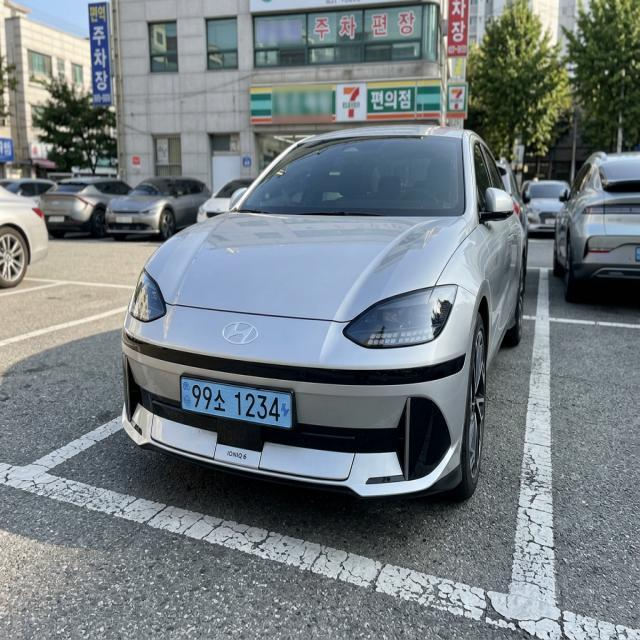car: (171, 363, 307, 444)
carev: (180, 374, 193, 415), (279, 391, 293, 428)
